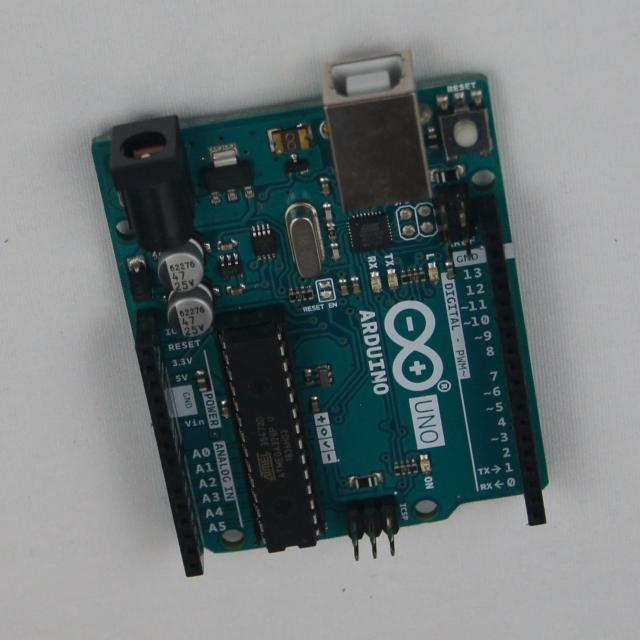Arduino Uno -Green-: (94, 52, 548, 576)
